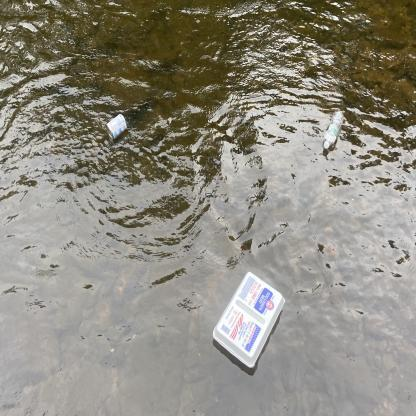trash: (206, 266, 286, 374), (320, 104, 349, 153), (101, 112, 132, 142)
